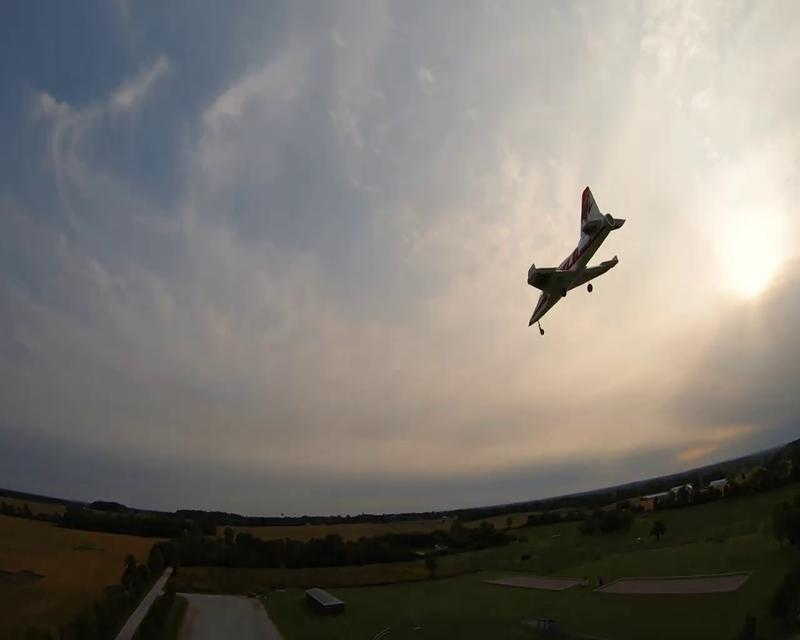UAV: (525, 184, 626, 335)
